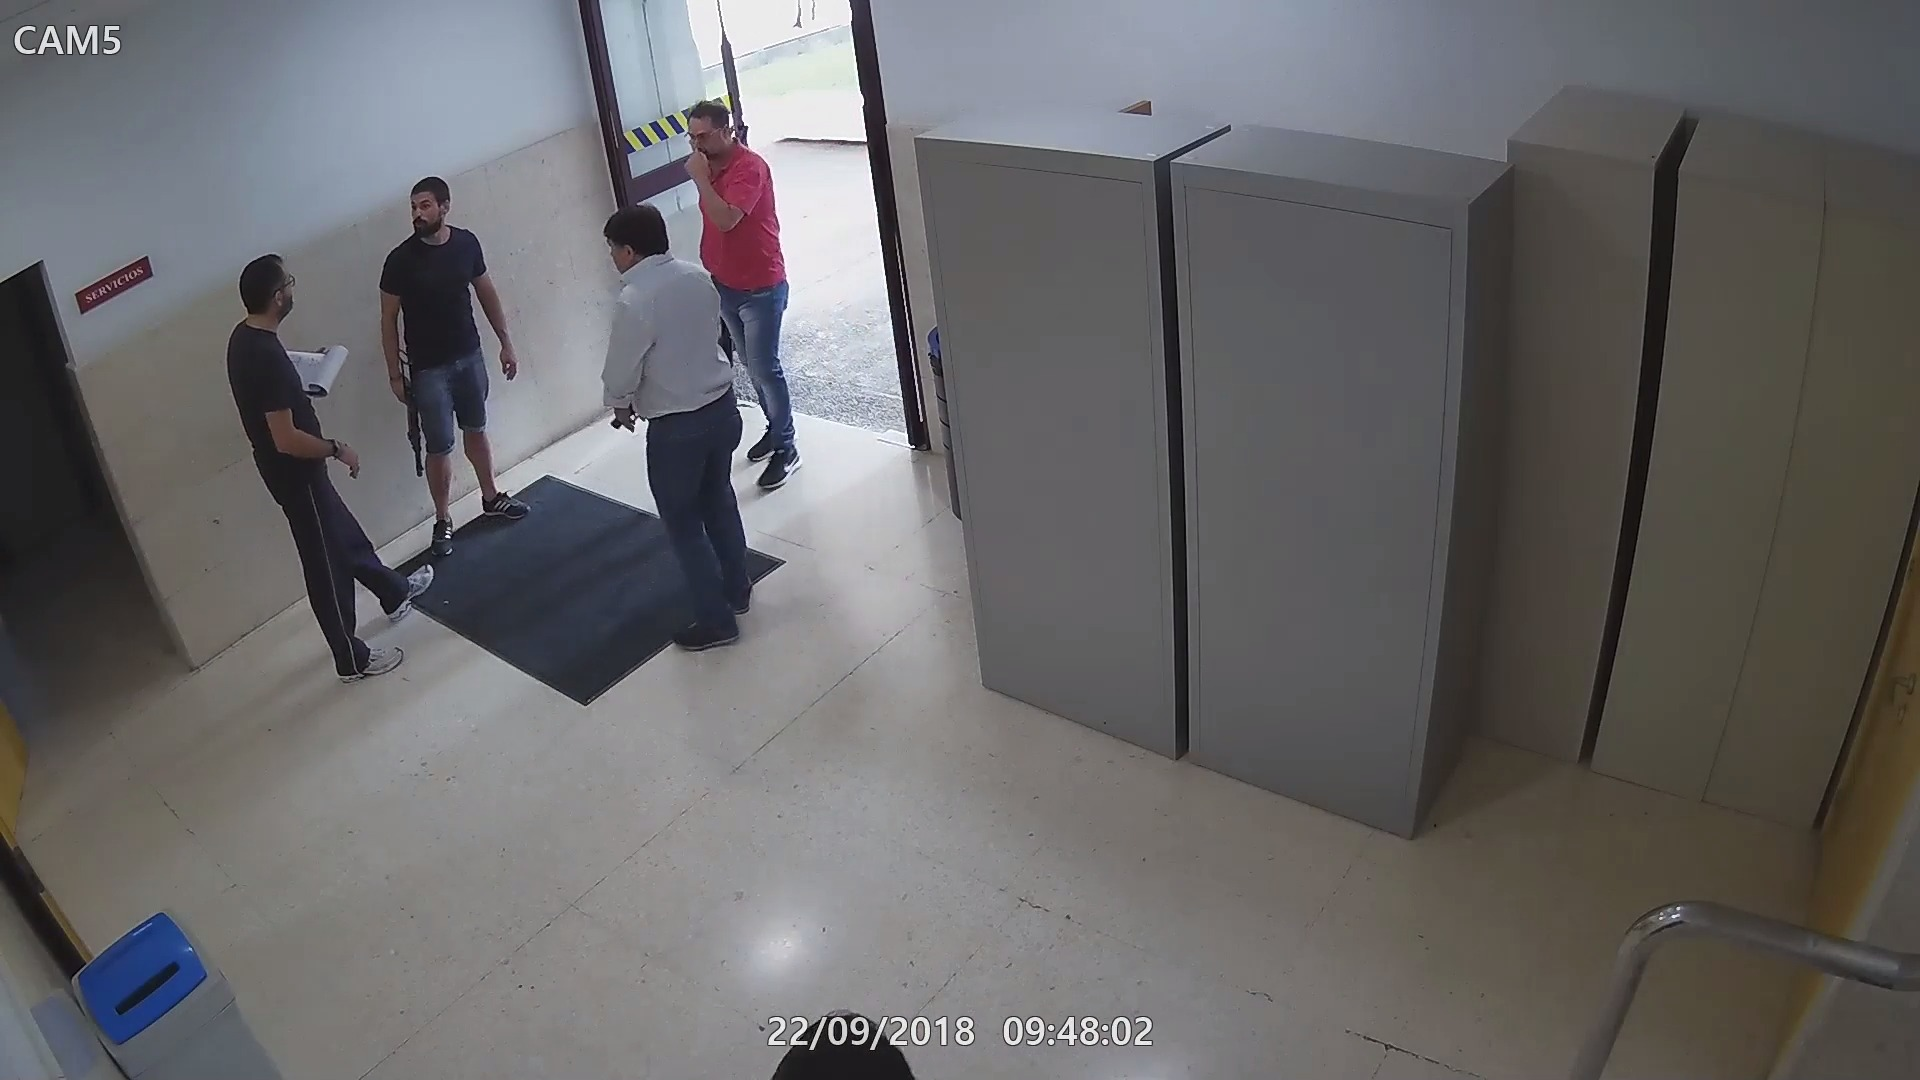Handgun: (604, 407, 641, 433)
Short_rifle: (384, 375, 425, 477)
